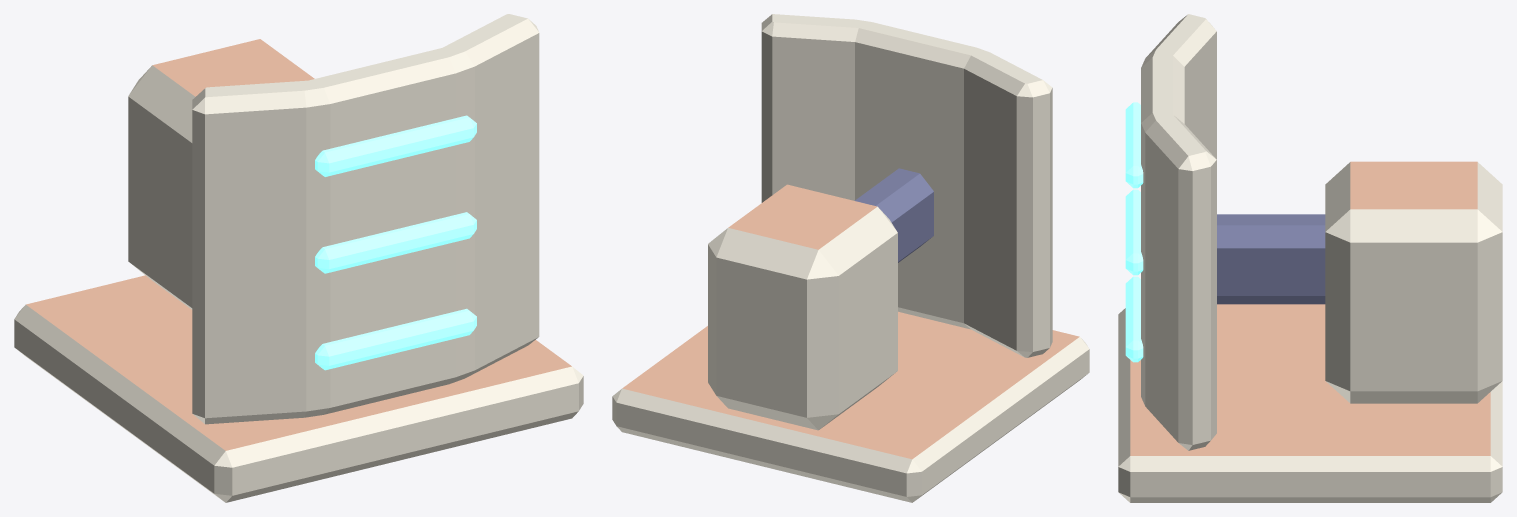
The model's file is R4X_DirectionalShield_LOD1.fbx.
3 views of the same model, side by side, from view 1: azimuth 30°, elevation 25°; view 2: azimuth 150°, elevation 25°; view 3: azimuth 270°, elevation 25° (orthographic). The views are drawn at different scales.
Visible parts, largest first — view 1: R4X_DirectionalShield_LOD1; view 2: R4X_DirectionalShield_LOD1; view 3: R4X_DirectionalShield_LOD1.
Part boxes in pixels (x1,y1,x2,y2): R4X_DirectionalShield_LOD1: [14, 14, 583, 502]; R4X_DirectionalShield_LOD1: [612, 14, 1089, 502]; R4X_DirectionalShield_LOD1: [1118, 14, 1502, 502].
Bounding box in the file's own units: 0.52 × 0.51 × 0.52.
